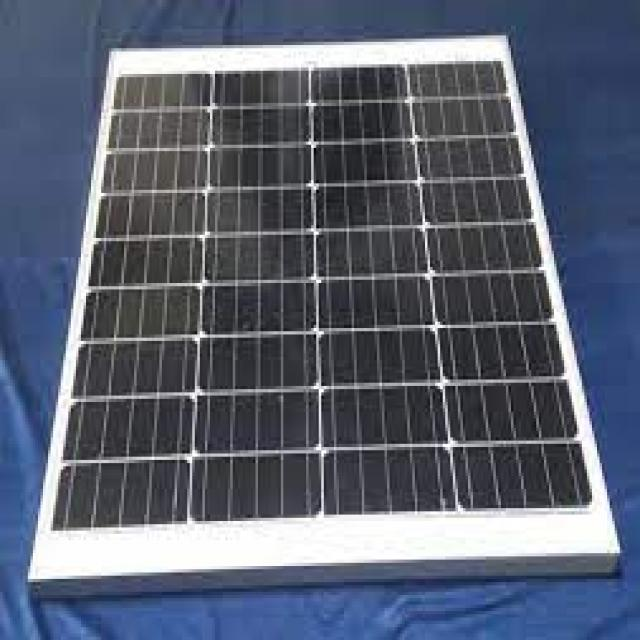no faulty: (64, 84, 566, 528)
